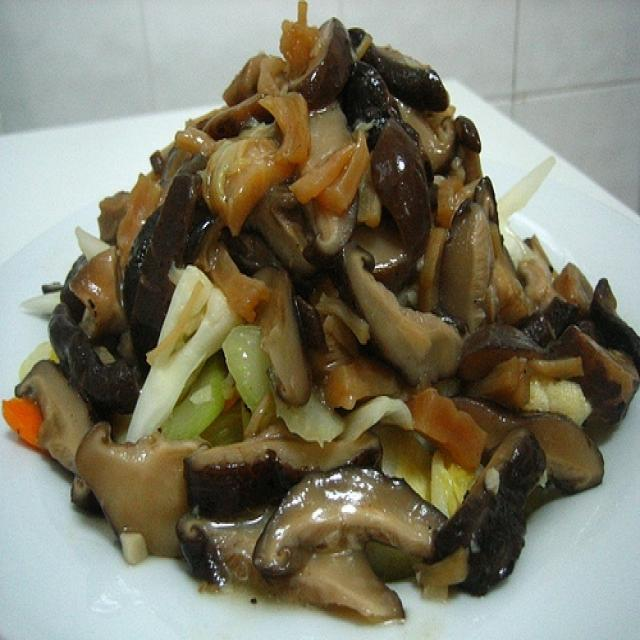蔬菜料理: (8, 10, 630, 621)
